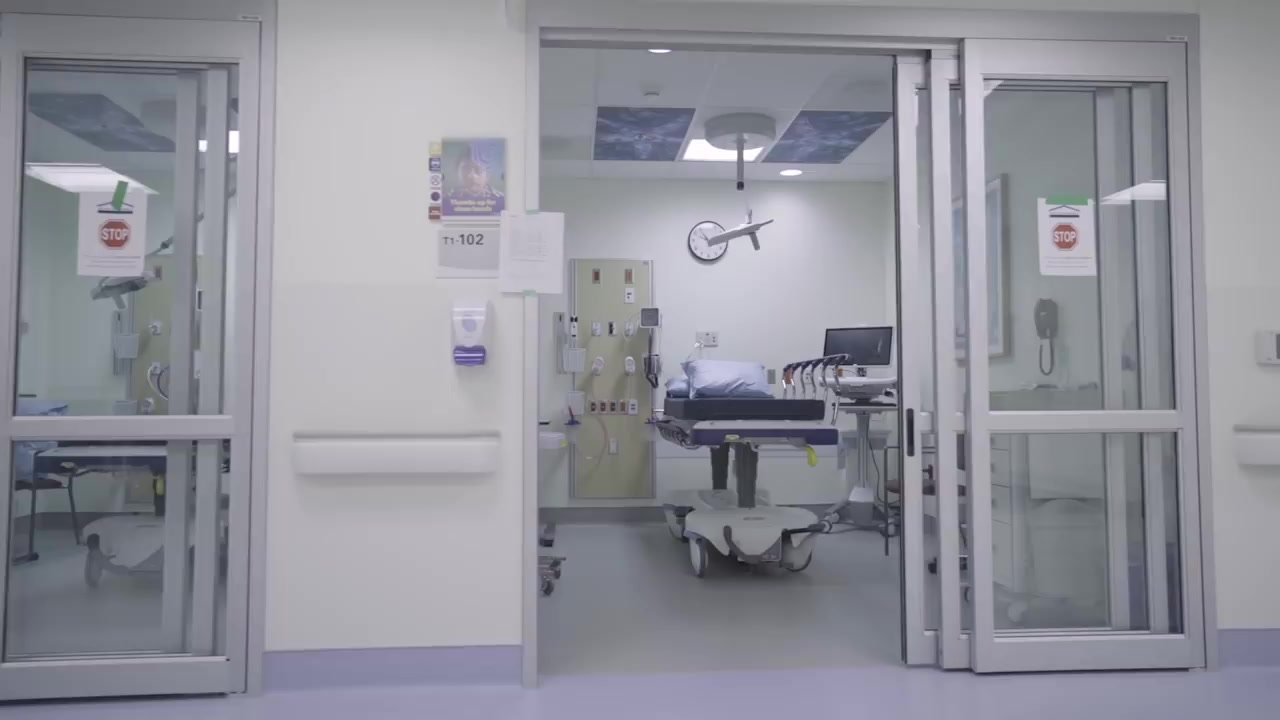bedrail: (782, 351, 849, 423), (641, 416, 700, 450)
bedside_monitor: (639, 306, 662, 327)
chair: (13, 448, 80, 563)
computer: (826, 328, 893, 366)
dispenser: (449, 302, 489, 367)
door_handle: (907, 407, 914, 460)
hallway_assist_bar: (287, 431, 500, 479), (1234, 423, 1280, 469)
hospital_bed: (649, 359, 838, 578)
keyboard: (837, 400, 894, 406)
medical_drawer: (963, 386, 1138, 609)
surgical_light: (705, 221, 776, 257), (100, 267, 148, 312)
telephone: (1033, 300, 1059, 338)
